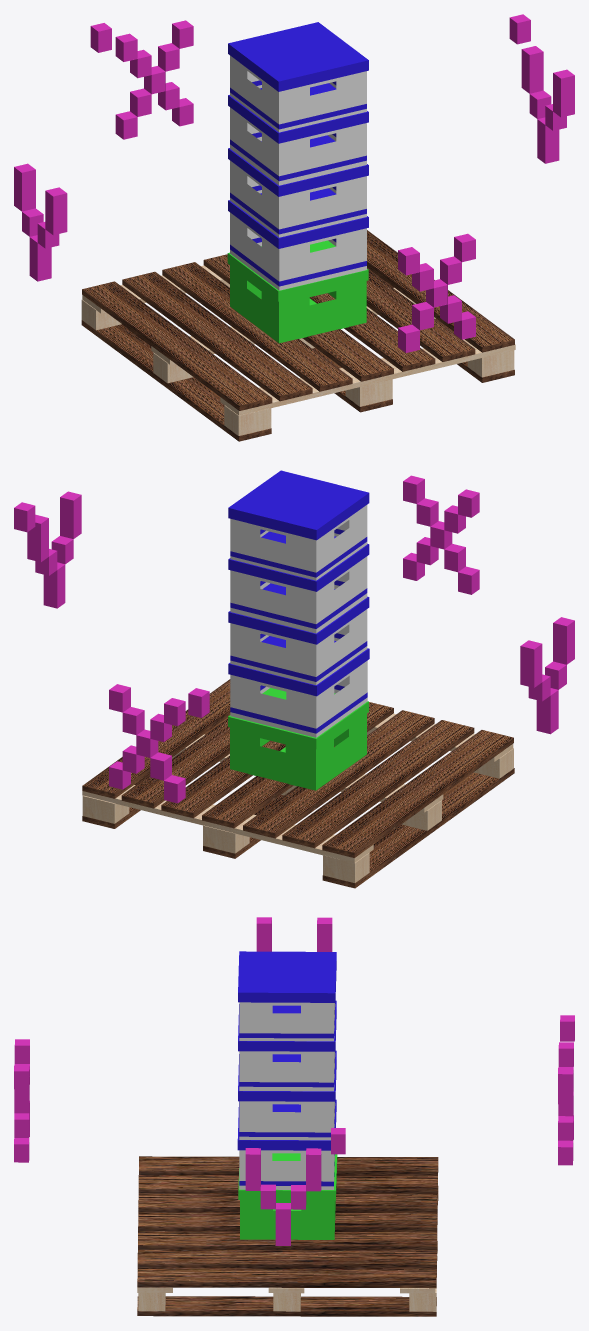
The model's file is caja221.gltf.
The picture shows the model from 3 angles, top to bottom: view 1: azimuth 30°, elevation 25°; view 2: azimuth 150°, elevation 25°; view 3: azimuth 270°, elevation 25°; orthographic projection. The views are drawn at different scales.
Parts seen in each view (by area): view 1: CajaVerde, Cube.040_1, Cube045, Cube046, Cube048, Cube.019_0, Cube.009_0, Cube.011_0, Cube.040_0, Cube005, Cube043, Cube040 (+17 smaller); view 2: CajaVerde, Cube.040_1, Cube045, Cube046, Cube.019_0, Cube.009_0, Cube048, Cube.011_0, Cube.040_0, Cube005, Cube043, Cube066 (+17 smaller); view 3: Cube044, Cube.040_1, Cube049, Cube055, Cube050, Cube047, Cube048, CajaVerde, Cube046, Cube045, Cube.019_0, Cube.040_0 (+12 smaller).
Boxes of the visible parts, x1,y1,x2,y2 form: CajaVerde: (227, 240, 368, 343); Cube.040_1: (228, 22, 368, 129); Cube045: (122, 271, 312, 401); Cube046: (82, 281, 272, 410); Cube048: (162, 262, 352, 391); Cube.019_0: (230, 107, 366, 185); Cube.009_0: (230, 212, 366, 290); Cube.011_0: (230, 160, 366, 237); Cube.040_0: (230, 55, 366, 132); Cube005: (115, 20, 193, 139); Cube043: (398, 233, 475, 352); Cube040: (521, 46, 574, 163); CajaVerde: (228, 688, 368, 790); Cube.040_1: (228, 470, 369, 577); Cube045: (282, 720, 474, 848); Cube046: (322, 730, 513, 857); Cube.019_0: (230, 556, 367, 633); Cube.009_0: (230, 660, 367, 737); Cube048: (243, 710, 434, 838); Cube.011_0: (230, 609, 367, 684); Cube.040_0: (230, 505, 367, 580); Cube005: (109, 684, 185, 803); Cube043: (403, 475, 479, 594); Cube066: (520, 617, 574, 734); Cube044: (137, 1267, 436, 1288); Cube.040_1: (238, 951, 336, 1038); Cube049: (137, 1249, 436, 1268); Cube055: (137, 1296, 436, 1316); Cube050: (138, 1231, 437, 1250); Cube047: (138, 1212, 437, 1231); Cube048: (138, 1193, 437, 1212); CajaVerde: (238, 1153, 337, 1239); Cube046: (139, 1156, 438, 1175); Cube045: (138, 1175, 437, 1193); Cube.019_0: (239, 1051, 335, 1091); Cube.040_0: (239, 1002, 335, 1041).
Size of the model in its own units: 4.23 by 2.33 by 4.22.
Materials: 12 (2 with a texture image).
